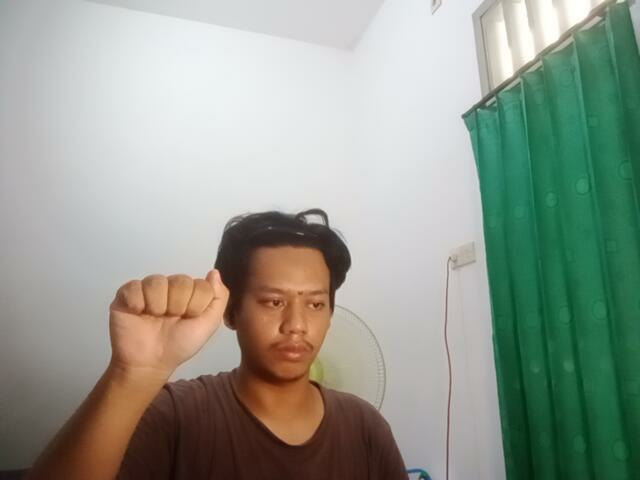A: (98, 260, 232, 372)
